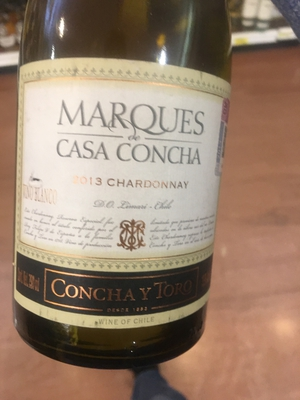marques de casa concha chardonnay: (14, 10, 226, 368)
